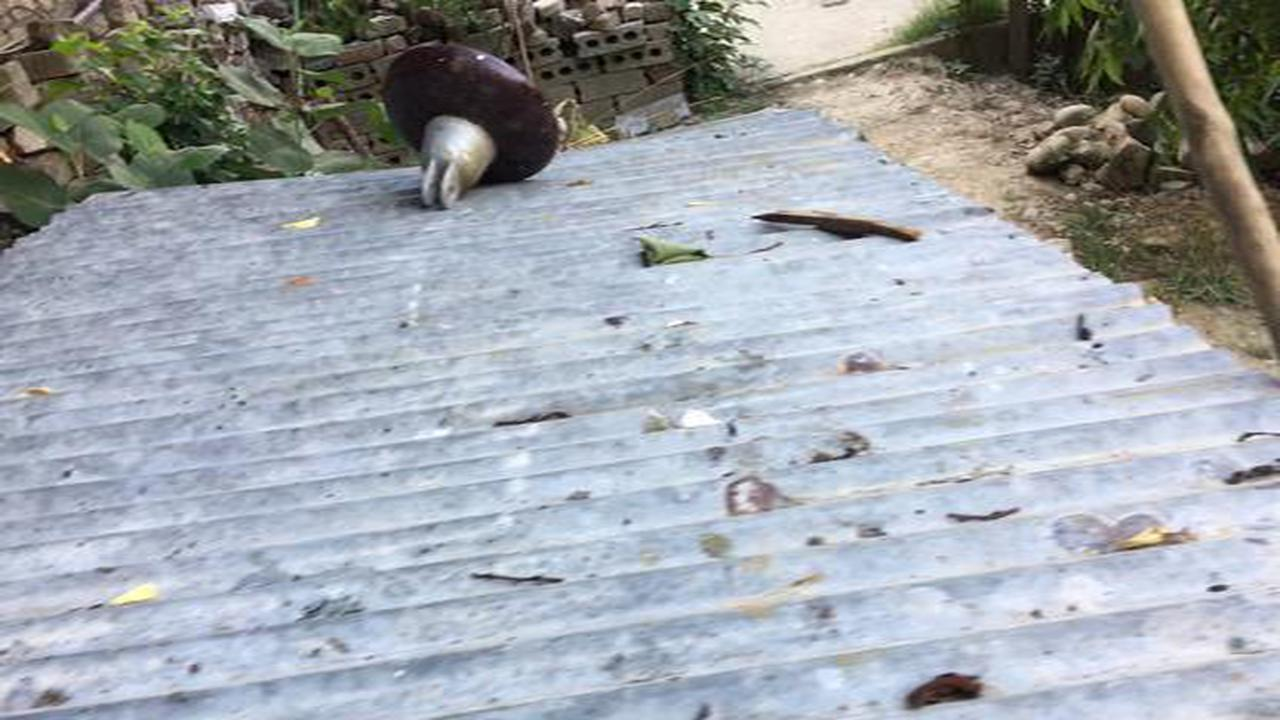insulator_disc: (379, 40, 575, 218)
